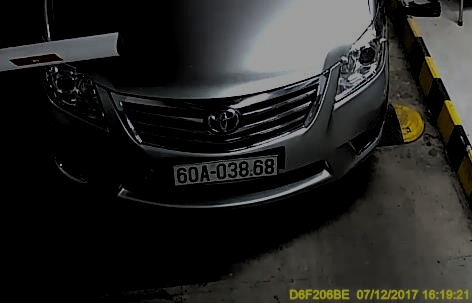plate: (166, 153, 283, 186)
